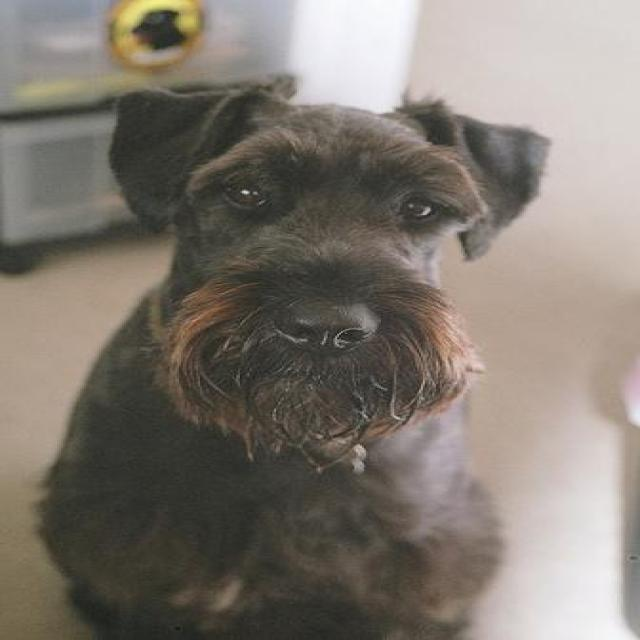standard_schnauzer: (34, 78, 554, 638)
